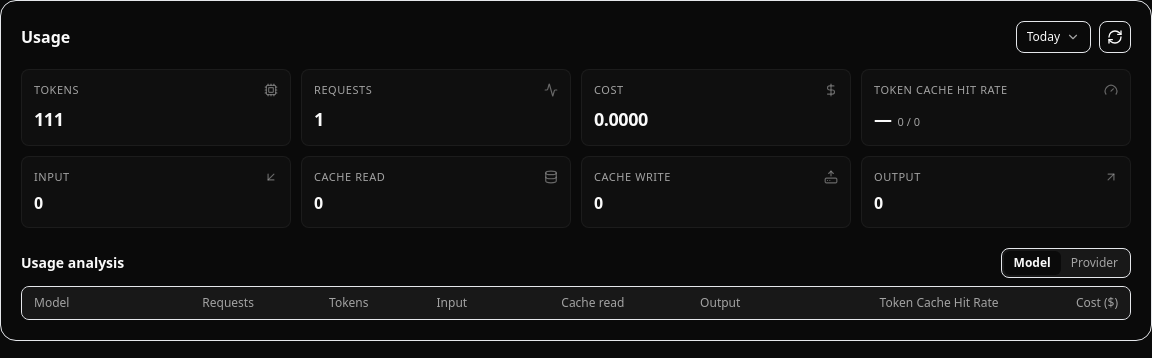
it: UsageStatsPanel › 范围下拉提供昨天并按 range=yesterday 取数渲染返回指标
The image size is (1152, 358).
Expected: the element with test id "ai-gateway-usage-card-requests" is shown, x1=301 y1=69 x2=571 y2=146
Click the button with test id "ai-gateway-usage-range-trigger" at (1053, 37), box x1=1016 y1=21 x2=1091 y2=53
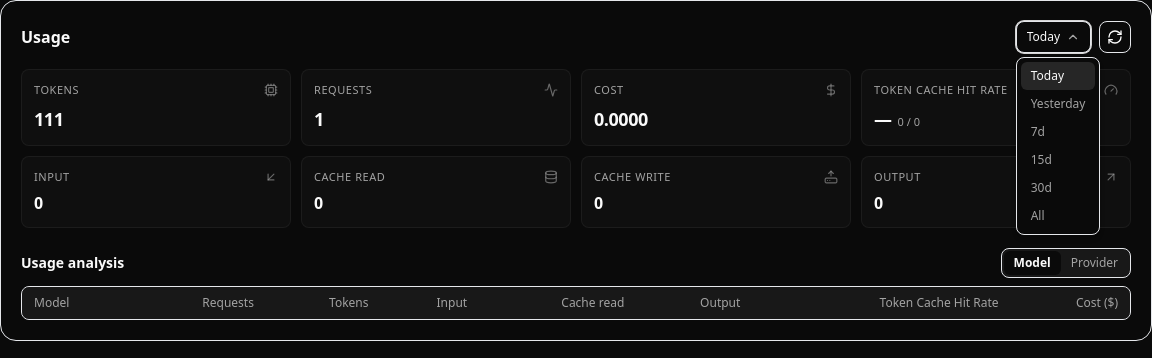
Click the option "Yesterday" at (1058, 104), box x1=1021 y1=90 x2=1096 y2=118
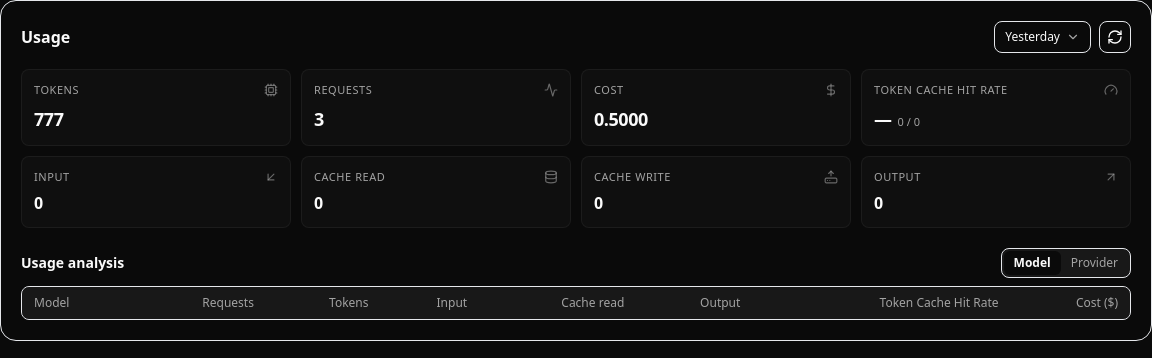
Expected: the button with test id "ai-gateway-usage-range-trigger" reads "Yesterday", x1=994 y1=21 x2=1091 y2=53
Expected: the element with test id "ai-gateway-usage-card-requests" shows "3", x1=314 y1=106 x2=324 y2=130
Expected: the element with test id "ai-gateway-usage-card-tokens" shows "777", x1=34 y1=106 x2=64 y2=130
